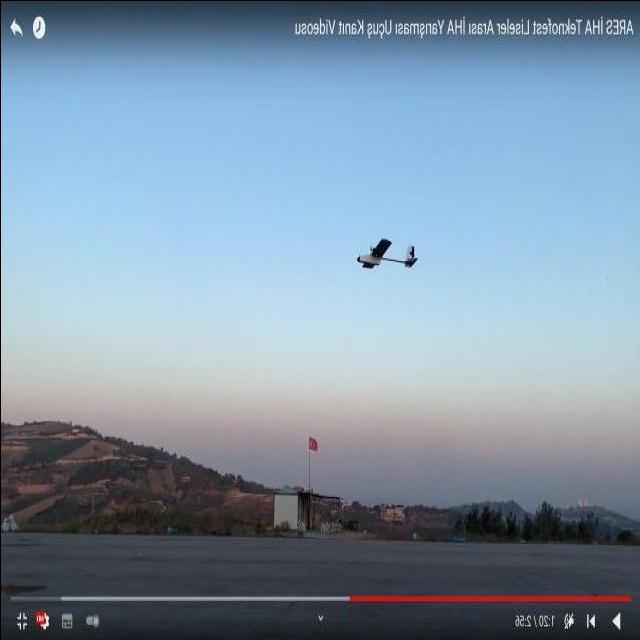UAV: (306, 239, 447, 275)
